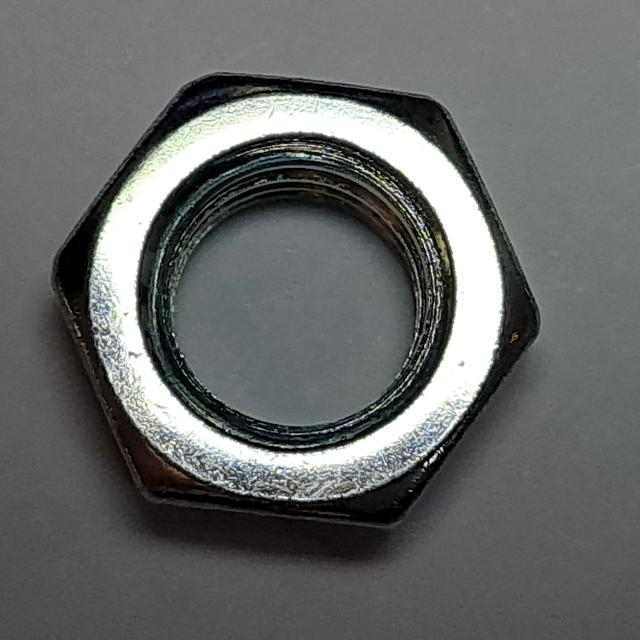Excellent: (31, 60, 558, 549)
